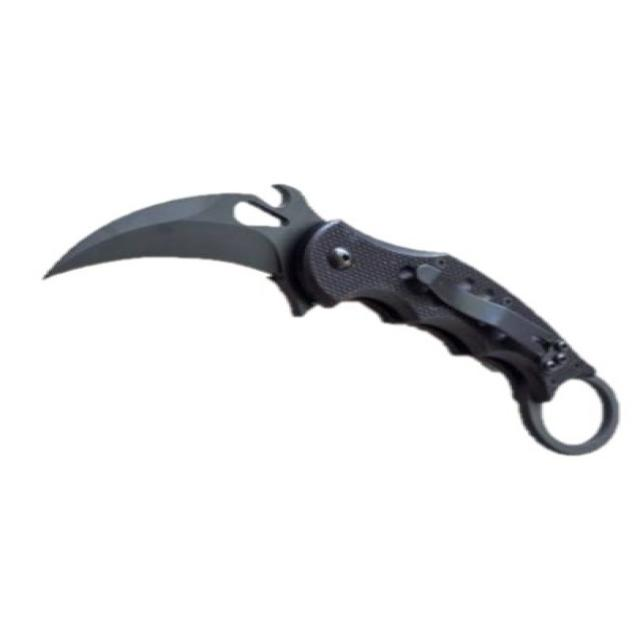knife: (39, 185, 627, 464)
